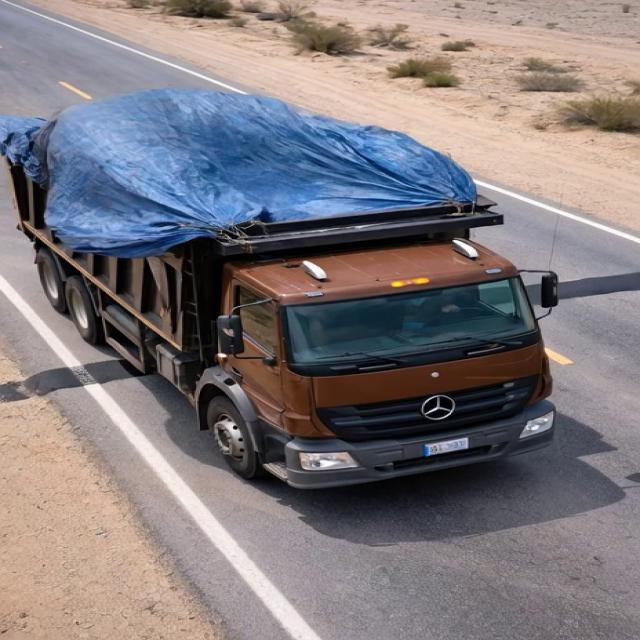Box: (6, 89, 517, 239)
Truck: (0, 70, 579, 499)
